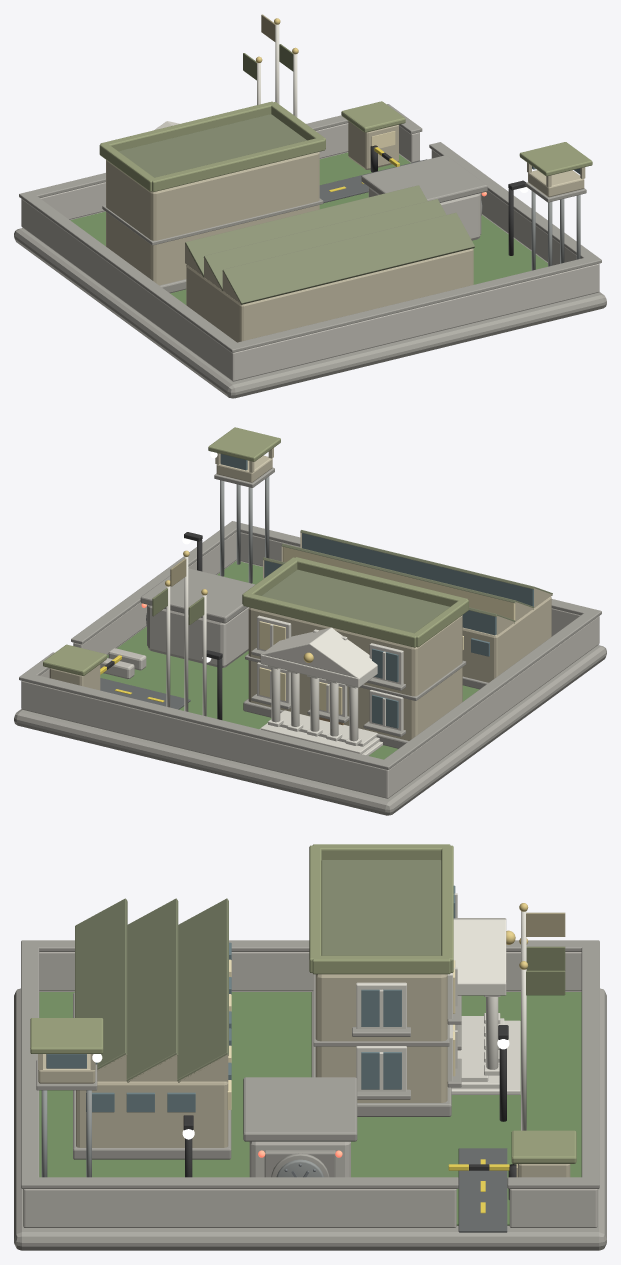
Rendered from treasury_8.glb.
3 views of the same model, one above another, from view 1: azimuth 30°, elevation 25°; view 2: azimuth 150°, elevation 25°; view 3: azimuth 270°, elevation 25° (orthographic). The views are drawn at different scales.
Visible parts, largest first — view 1: Cube.034, Cube, Cube.014, Cube.100, Cube.029, Cube.102, Cube.069, Cube.001, Cube.033, Cube.031, Cube.101, Cube.093 (+17 smaller); view 2: Cube, Cube.098, Cube.034, Cube.001, Cube.102, Cube.069, Cube.092, Cube.014, Cube.028, Cube.099, prism, Cube.093 (+32 smaller); view 3: Cube.001, Cube, Cube.106, Cube.069, Cube.034, Cube.031, Cube.033, Cube.014, Cube.093, Cube.029, Cube.102, Cube.107 (+42 smaller).
Boxes of the visible parts, <box> form: Cube.034: <box>106,152,319,285</box>; Cube: <box>14,152,606,398</box>; Cube.014: <box>186,248,473,342</box>; Cube.100: <box>228,263,599,381</box>; Cube.029: <box>222,212,474,304</box>; Cube.102: <box>24,201,229,378</box>; Cube.069: <box>118,114,306,177</box>; Cube.001: <box>70,152,547,304</box>; Cube.033: <box>185,185,427,277</box>; Cube.031: <box>203,199,446,291</box>; Cube.101: <box>226,256,601,352</box>; Cube.093: <box>361,155,487,202</box>; Cube: <box>14,560,606,815</box>; Cube.098: <box>21,681,391,798</box>; Cube.034: <box>248,607,462,740</box>; Cube.001: <box>100,561,479,759</box>; Cube.102: <box>391,618,596,796</box>; Cube.069: <box>261,569,449,632</box>; Cube.092: <box>148,605,248,667</box>; Cube.014: <box>462,596,551,682</box>; Cube.028: <box>302,533,533,606</box>; Cube.099: <box>19,673,394,769</box>; prism: <box>261,627,376,678</box>; Cube.093: <box>140,568,255,623</box>; Cube.001: <box>39,992,581,1225</box>; Cube: <box>14,988,606,1250</box>; Cube.106: <box>32,1189,456,1227</box>; Cube.069: <box>321,860,441,955</box>; Cube.034: <box>315,974,447,1102</box>; Cube.031: <box>126,898,178,1082</box>; Cube.033: <box>177,898,228,1082</box>; Cube.014: <box>76,1081,228,1147</box>; Cube.093: <box>243,1077,357,1141</box>; Cube.029: <box>75,898,127,1069</box>; Cube.102: <box>39,952,581,991</box>; Cube.107: <box>29,1177,458,1188</box>.
Size of the model in its own units: 2.92 by 1.39 by 2.92.
